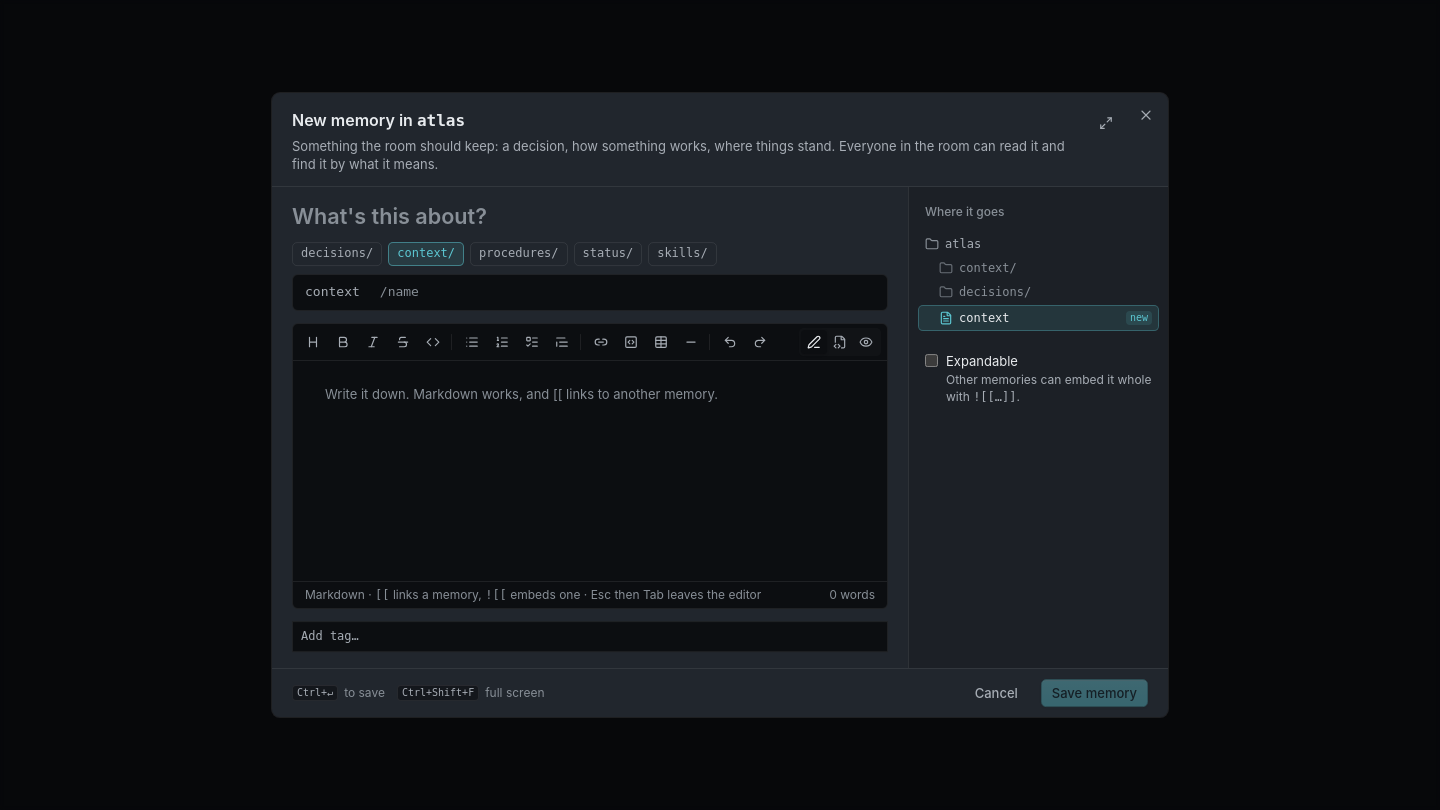
Test: <NewMemoryDialog /> › refuses a name a key can't hold
The width and height of the screenshot is (1440, 810).
Type "x" into the field named "Title" at (590, 217), box [292,203,888,230]
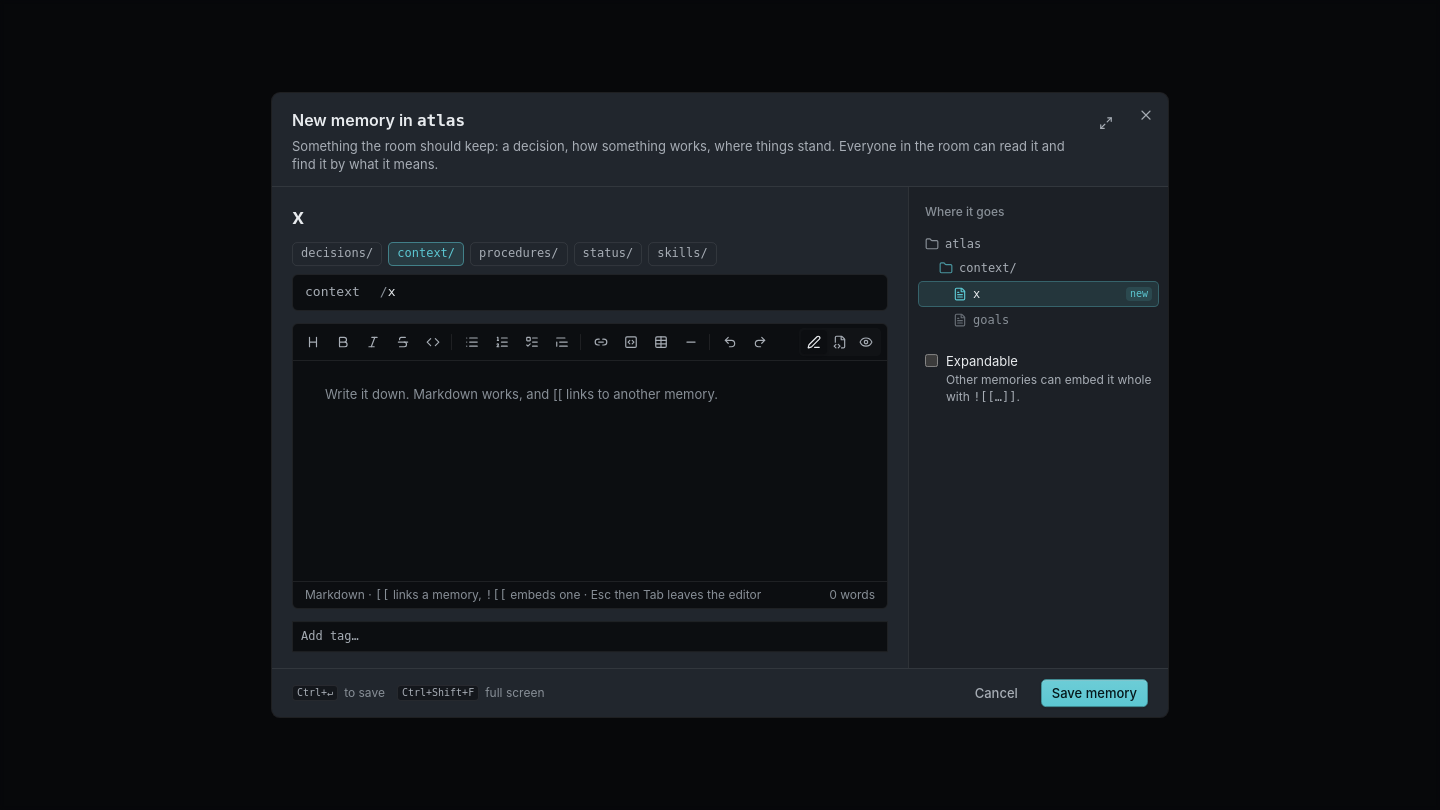
Clear the field named "name" at (637, 292), box [388,275,887,310]
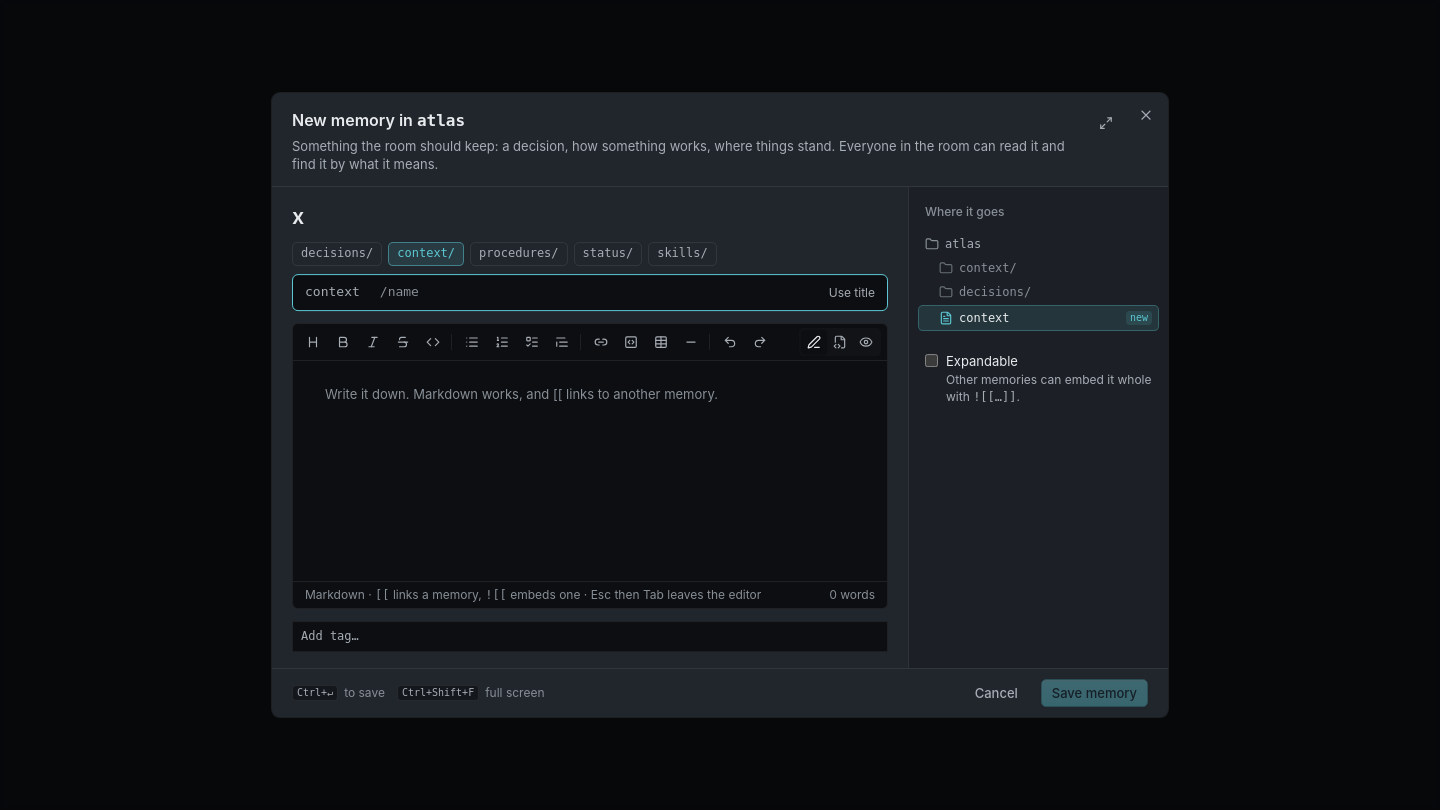
Type "Bad Name" into the field labelled "name" at (605, 292), box [388,275,823,310]
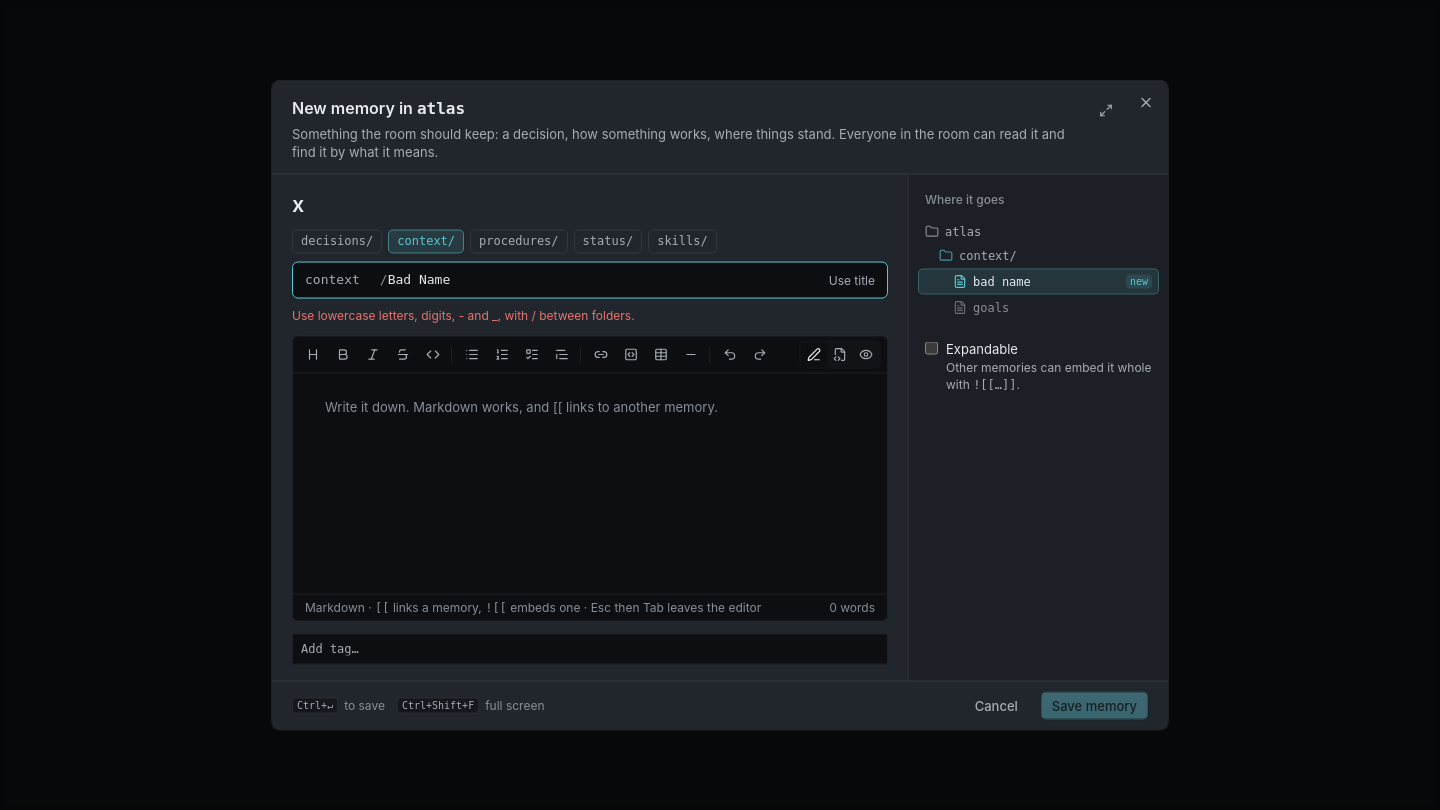
Check: the button "Save memory" is disabled, box [1041,692,1148,720]
Check: the text "lowercase letters" is shown, box [292,307,635,322]
